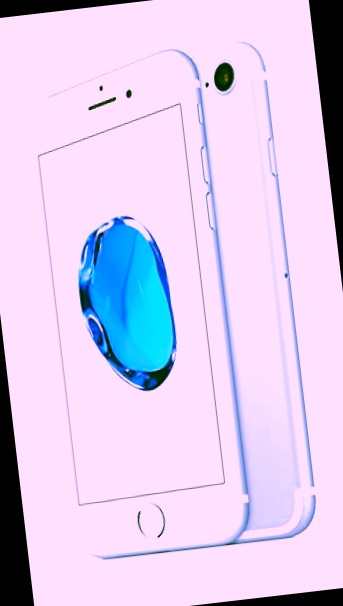iphone: (95, 29, 324, 544)
